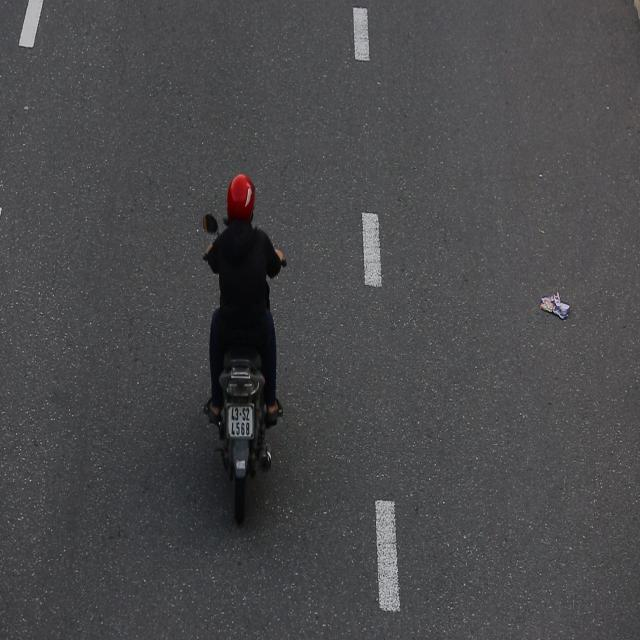motorbike: (195, 165, 286, 529)
